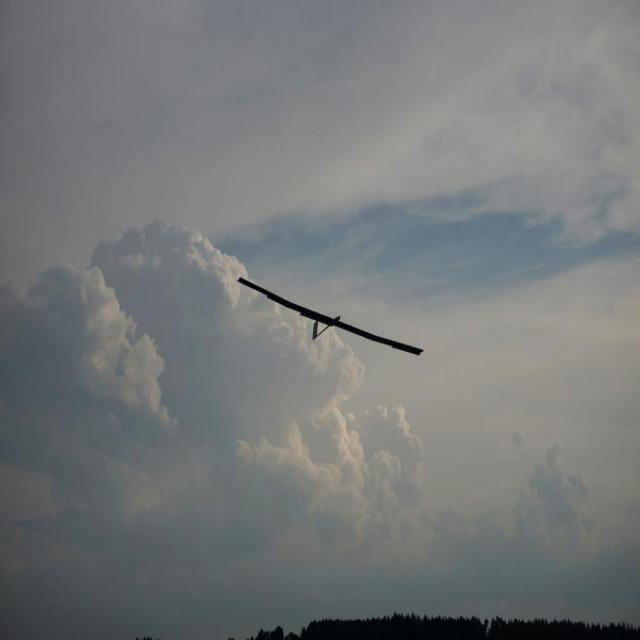iha: (234, 304, 463, 366)
